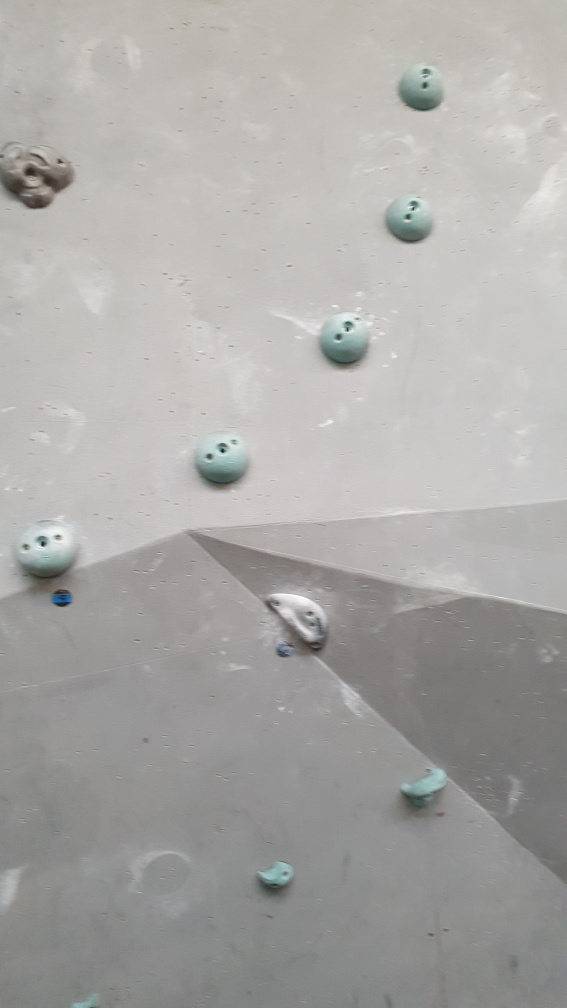Hand Start: (50, 584, 79, 611), (271, 635, 299, 662)
Jug: (1, 132, 79, 216), (396, 765, 453, 817)
Sloper: (13, 514, 81, 581), (312, 307, 378, 367), (192, 424, 252, 486), (394, 62, 451, 115), (381, 190, 436, 243)
